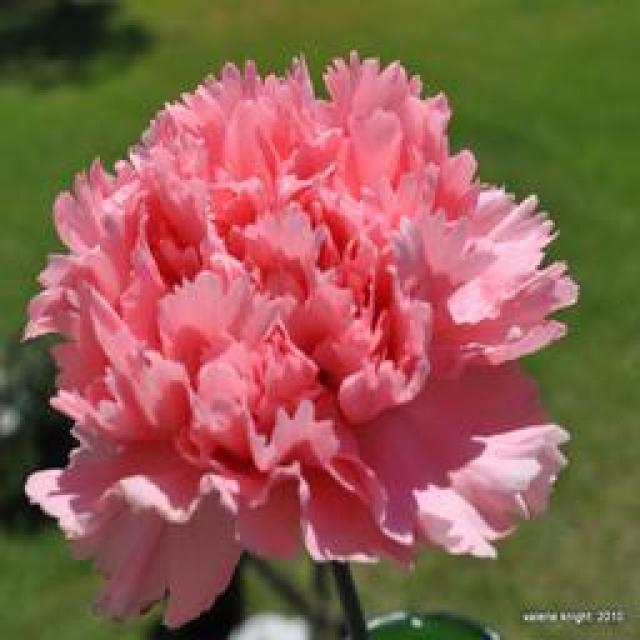carnation: (16, 50, 568, 621)
